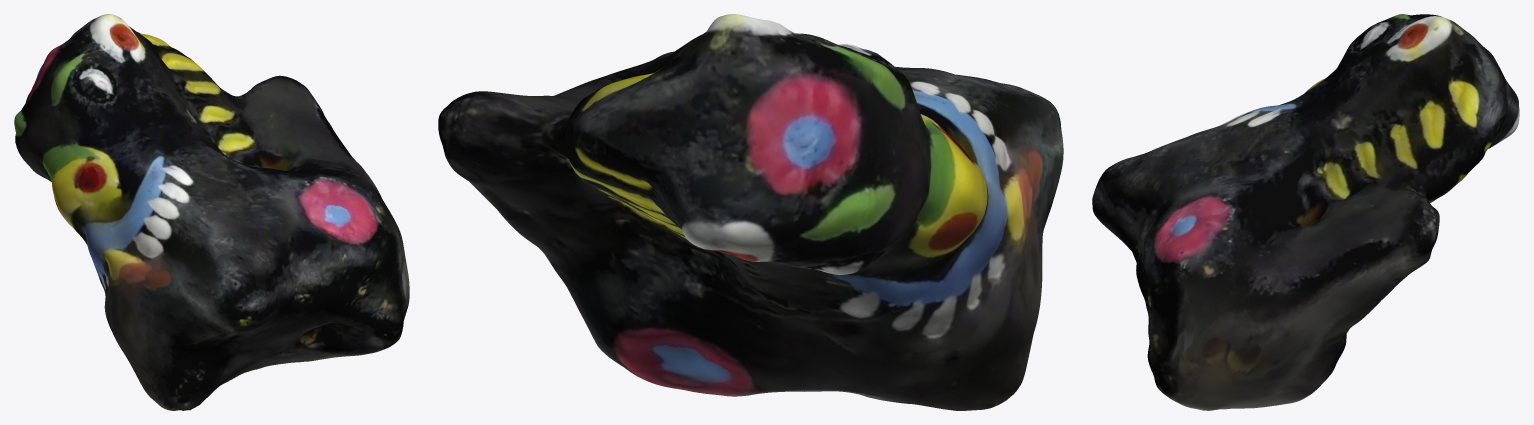
The picture shows the model from 3 angles, left to right: view 1: azimuth 30°, elevation 25°; view 2: azimuth 150°, elevation 25°; view 3: azimuth 270°, elevation 25°; orthographic projection. The views are drawn at different scales.
Bounding box in the file's own units: 0.2317 × 0.2279 × 0.2706.
Materials: 1 (1 with a texture image).
